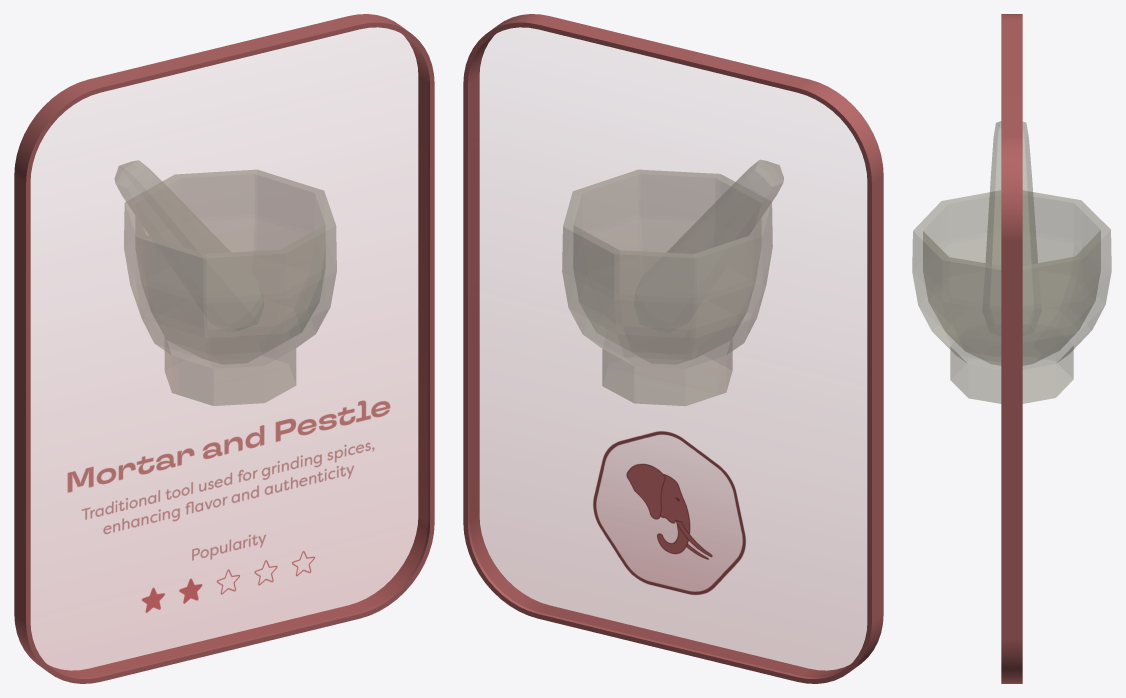
Rendered from mortar.glb.
3 views of the same model, side by side, from view 1: azimuth 30°, elevation 25°; view 2: azimuth 150°, elevation 25°; view 3: azimuth 270°, elevation 25° (orthographic). The views are drawn at different scales.
Parts seen in each view (by area): view 1: Bhai_Card.tex.017, mortar and pestle.002, Bhai_Card.out.017; view 2: Bhai_Card.tex.017, mortar and pestle.002, Bhai_Card.out.017; view 3: mortar and pestle.002, Bhai_Card.out.017.
Boxes of the visible parts, box(x1,y1,x2,y2) form: Bhai_Card.tex.017: box(31, 159, 427, 677); mortar and pestle.002: box(114, 160, 336, 405); Bhai_Card.out.017: box(14, 14, 434, 683); Bhai_Card.tex.017: box(470, 159, 866, 677); mortar and pestle.002: box(562, 160, 783, 405); Bhai_Card.out.017: box(463, 14, 883, 683); mortar and pestle.002: box(912, 121, 1111, 403); Bhai_Card.out.017: box(1001, 14, 1022, 683).
Size of the model in its own units: 1.81 by 2.51 by 0.8402.
4 materials, 2 textured.
